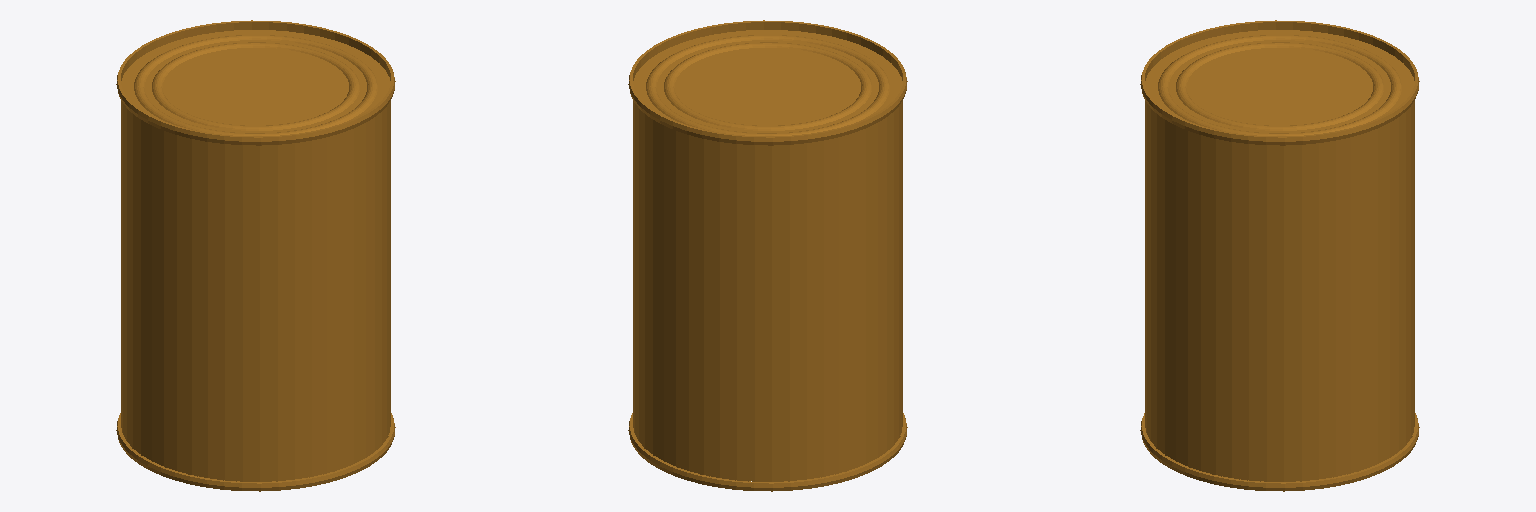
The robot description file, URDF, robot "beets":
<?xml version="1.0" ?>
<robot name = "beets">
  <material name="Black">
    <color rgba="0.0 0.0 0.0 1.0"/>
  </material>
  <material name="Blue">
    <color rgba="0.0 0.0 0.8 1.0"/>
  </material>
  <material name="Green">
    <color rgba="0.0 0.8 0.0 1.0"/>
  </material>
  <material name="Grey">
    <color rgba="0.4 0.4 0.4 1.0"/>
  </material>
  <material name="Orange">
    <color rgba="1.0 0.423529411765 0.0392156862745 1.0"/>
  </material>
  <material name="Brown">
    <color rgba="0.870588235294 0.811764705882 0.764705882353 1.0"/>
  </material>
  <material name="Red">
    <color rgba="0.8 0.0 0.0 1.0"/>
  </material>
  <material name="White">
    <color rgba="1.0 1.0 1.0 1.0"/>
  </material>
	<link name = "beets">
	<visual>
		<origin rpy="1.57079632 0 0" xyz="0 0 0.07"/>
		<geometry>
		<mesh filename="../meshes/beets.obj"/>
		</geometry>
		<material name="Beets">
			<color rgba="0.7 0.5 0.2 1.0"/>
			<texture filename="../meshes/belabel.jpg"/>
		</material>
	</visual>
	<collision>
		<origin rpy="1.57079632 0 0" xyz="0 0 0"/>
		<geometry>
		<cylinder length="0.06" radius="0.15"/>
		</geometry>
	</collision>
	</link>
</robot>

--- What the picture shows (computed from the rendered views, not written in the file) ---
Views: 3 orthographic renders of the robot side by side, from view 1: azimuth 30°, elevation 25°; view 2: azimuth 150°, elevation 25°; view 3: azimuth 270°, elevation 25°.
Model beets with 1 links and 0 joints (none), rooted at beets, posed every joint at zero.
Links seen in each view (by area): view 1: beets; view 2: beets; view 3: beets.
Boxes of the visible links, x1=… form: beets: x1=116, y1=20, x2=395, y2=491; beets: x1=628, y1=20, x2=907, y2=491; beets: x1=1140, y1=20, x2=1419, y2=491.
Bounding box of the posed robot: 0.0834 × 0.0834 × 0.1167 m (x, y, z).
1 mesh visuals loaded from 1 distinct referenced files (1 OBJ).
